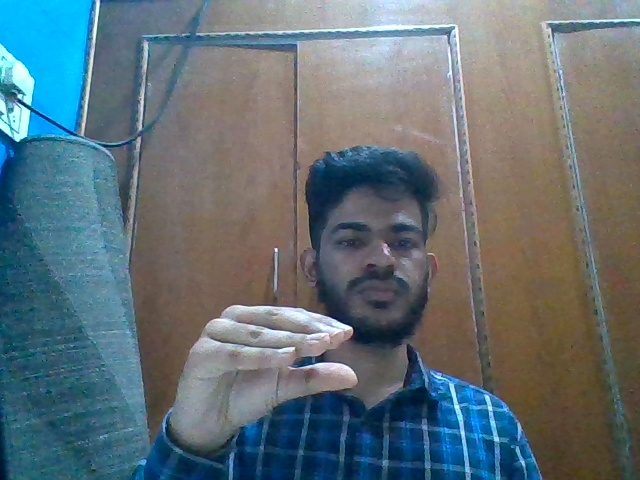no: (173, 302, 362, 455)
